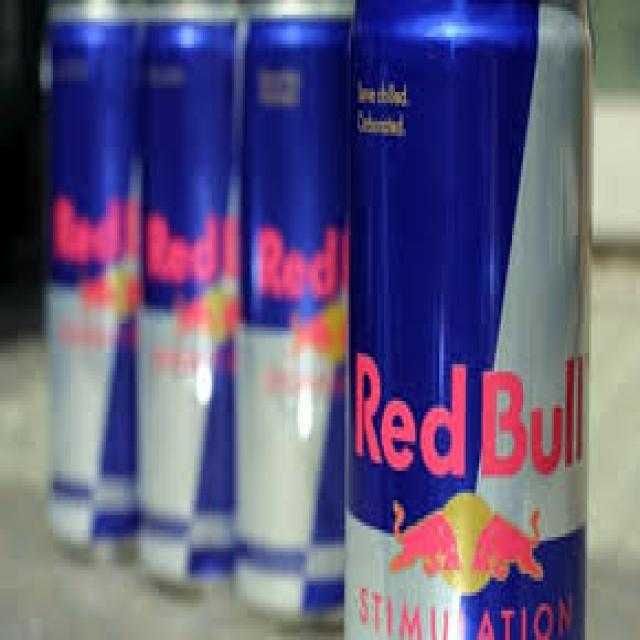red-bull: (353, 0, 586, 640)
